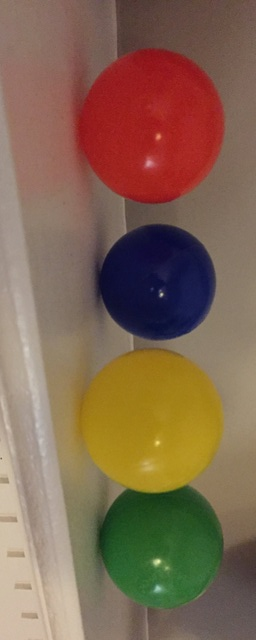Ball: (100, 484, 226, 605)
